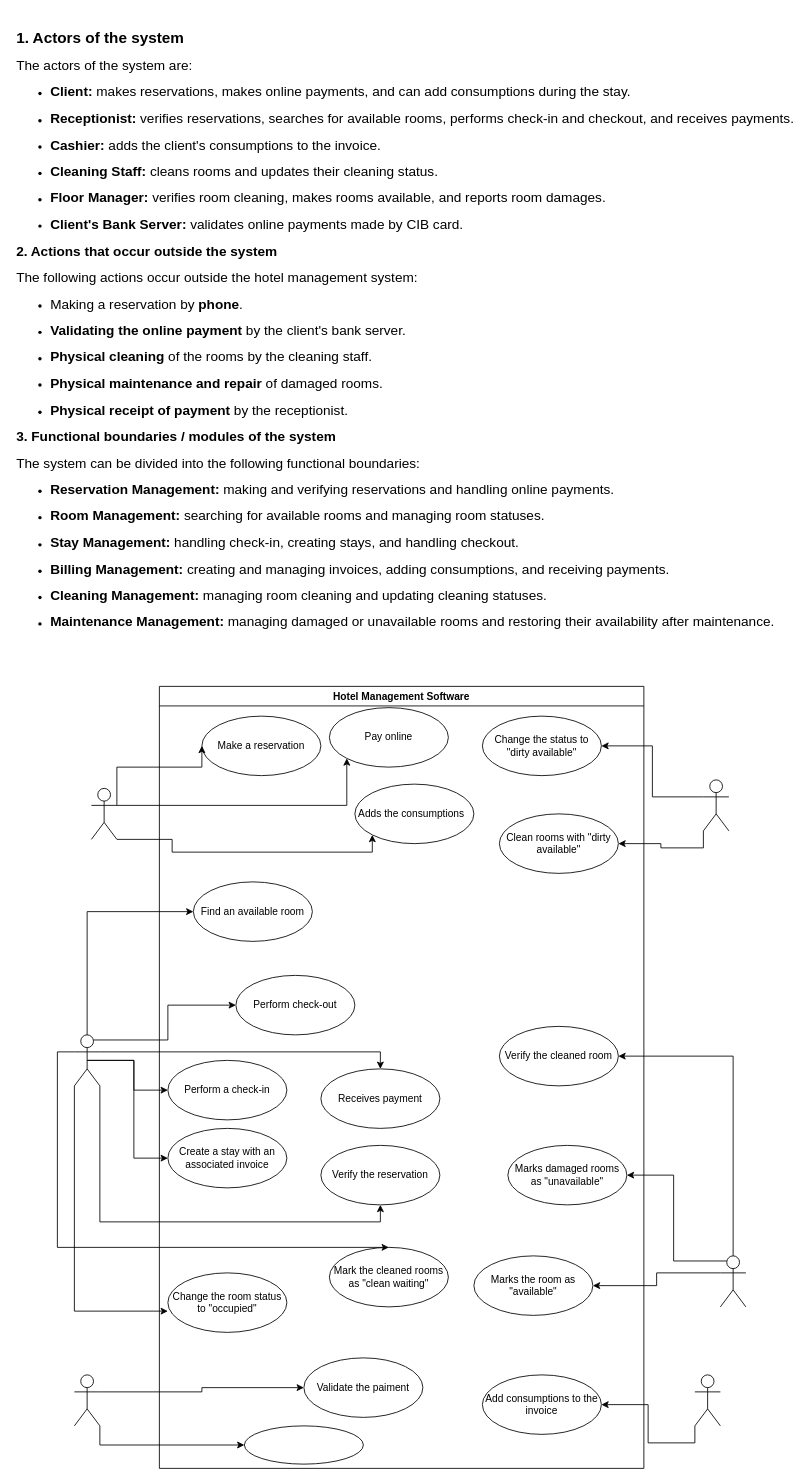
The diagram is 811 pixels wide and 1483 high, and some of its shapes have lost their labels. Each missing label, with the centre of its shape:
Bank server: pixel 87 1400
Cashier: pixel 707 1400
Cleaning staff: pixel 716 805
Client: pixel 104 813
Floor managment: pixel 733 1281
Receptionist: pixel 87 1060
Use SSL to communicate: pixel 303 1444
